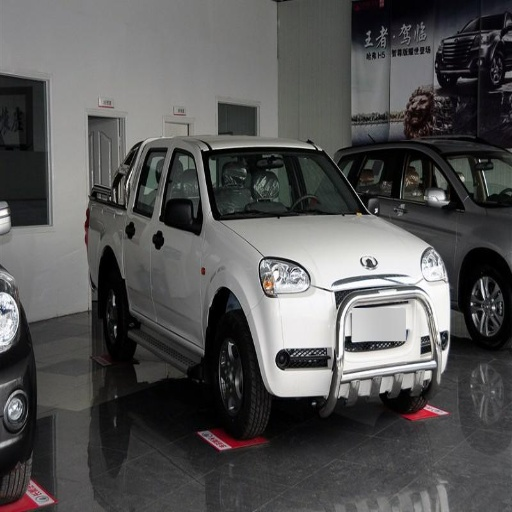front_bumper: (251, 286, 444, 397), (3, 355, 34, 448)
front_right_door: (151, 146, 202, 343)
front_right_light: (259, 258, 310, 295)
tailgate: (316, 233, 413, 306)
trunk: (299, 218, 366, 287)
